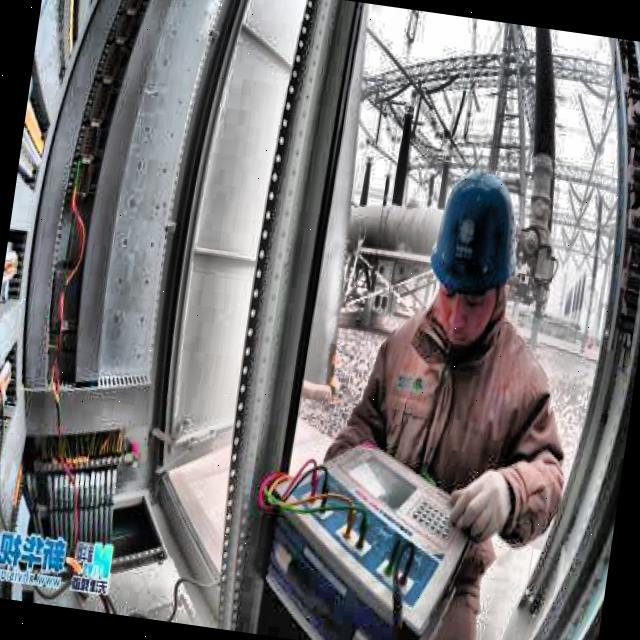helmet: (418, 154, 526, 354)
